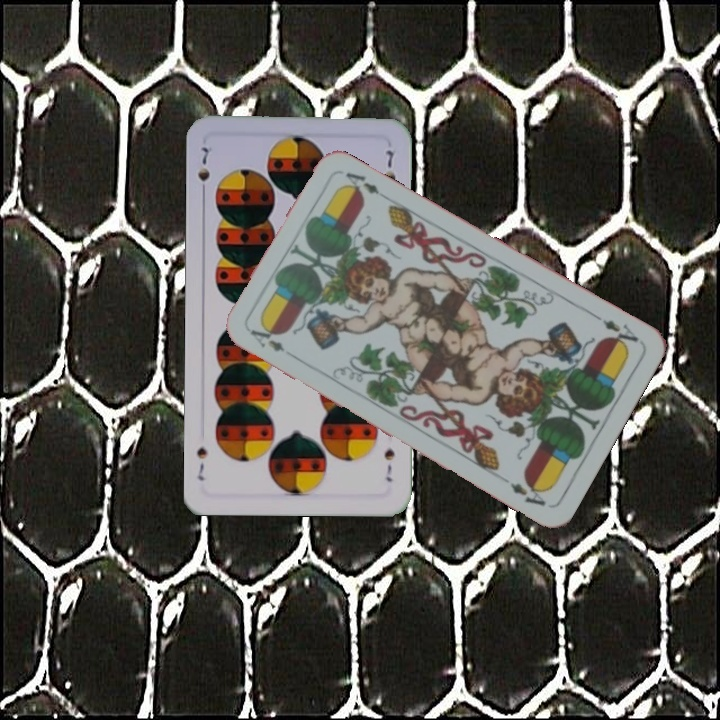EA: (589, 310, 642, 352), (246, 324, 300, 362)
S7: (194, 143, 213, 199), (380, 444, 397, 484)
